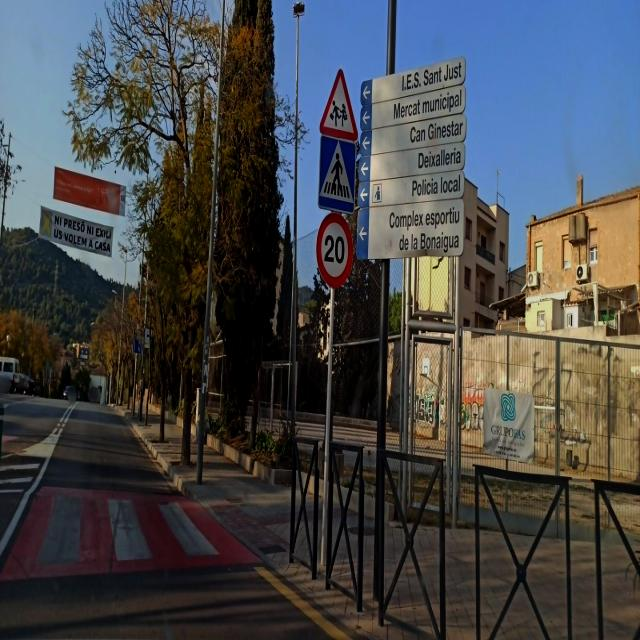car: (0, 356, 22, 393)
